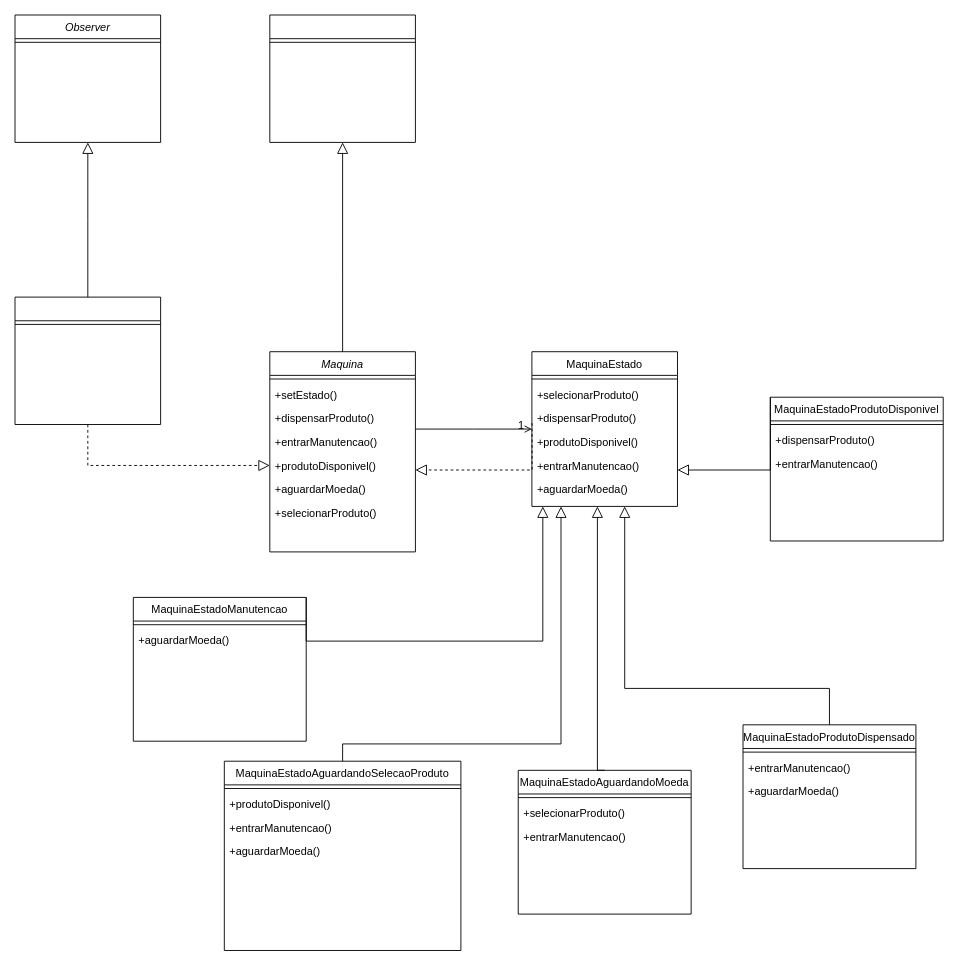
This 958x966 diagram has some shape labels left out. Each missing label, with the centre of its shape:
"Computador" goes at point (87, 360).
"Observable" goes at point (342, 78).
